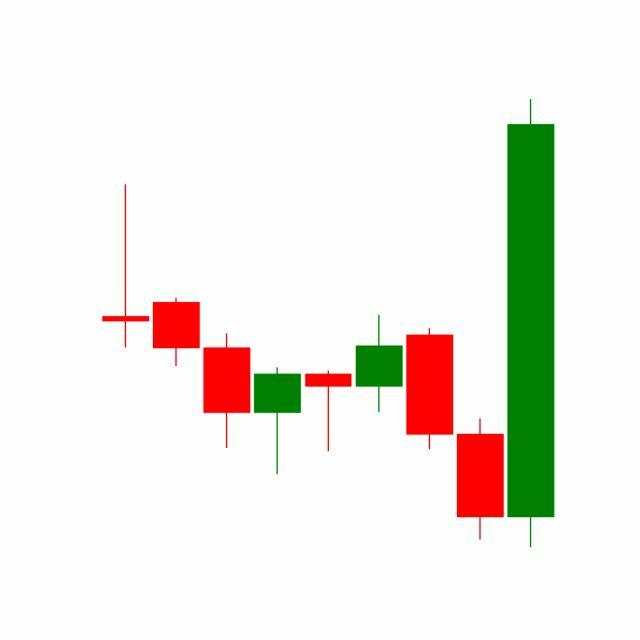Hikkake Pattern: (252, 313, 506, 543)
